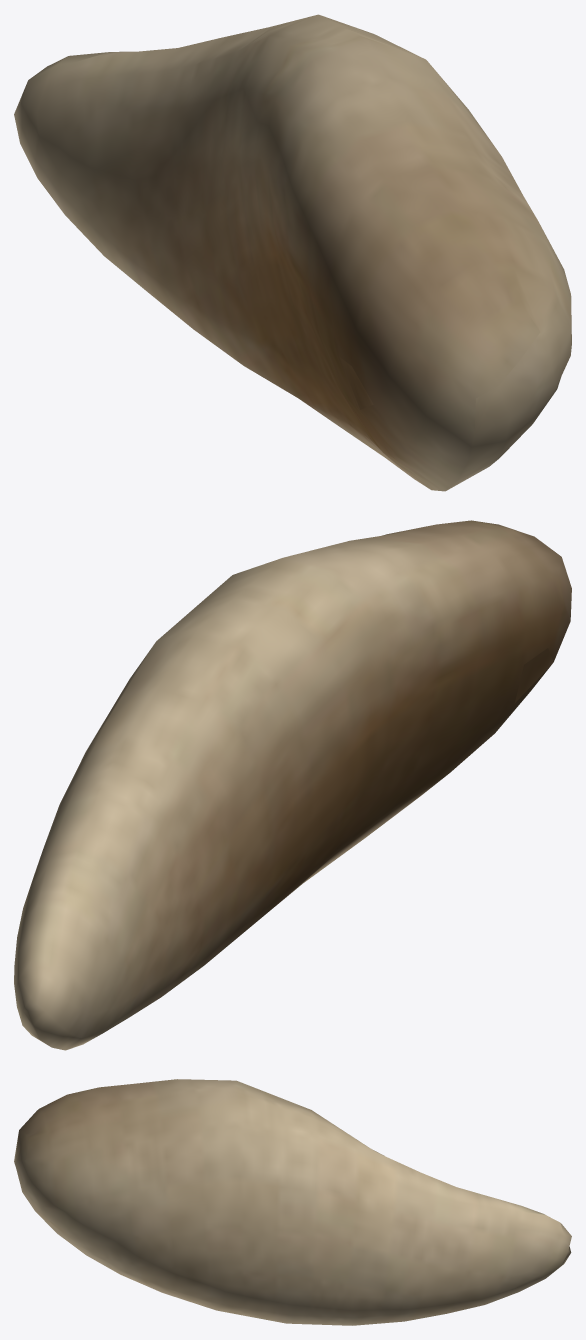
The model's file is Lower_Incisor4.glb.
3 renders of one model, top to bottom at view 1: azimuth 30°, elevation 25°; view 2: azimuth 150°, elevation 25°; view 3: azimuth 270°, elevation 25°, orthographic. The views are drawn at different scales.
Visible parts, largest first — view 1: Lower_Incisor; view 2: Lower_Incisor; view 3: Lower_Incisor.
Boxes of the visible parts, bbox=[...] form: Lower_Incisor: bbox=[14, 14, 571, 491]; Lower_Incisor: bbox=[14, 520, 571, 1050]; Lower_Incisor: bbox=[14, 1079, 571, 1325].
Bounding box in the file's own units: 0.0114 × 0.0151 × 0.034.
1 material, 1 textured.
